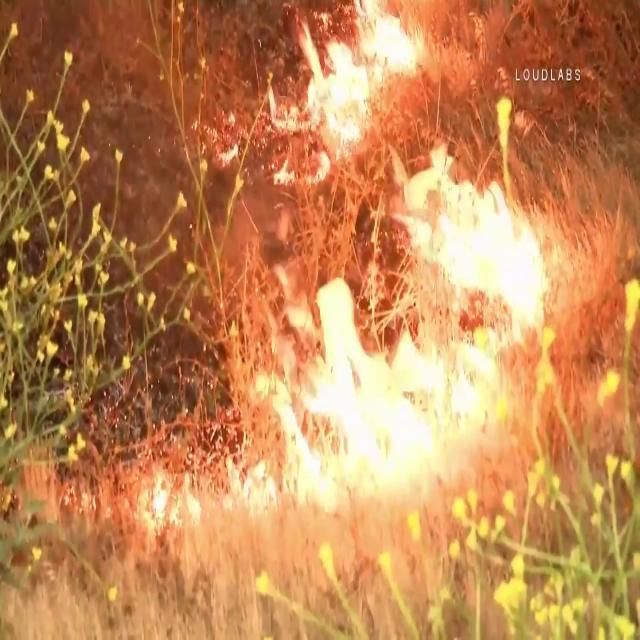Fire: (242, 3, 596, 554)
